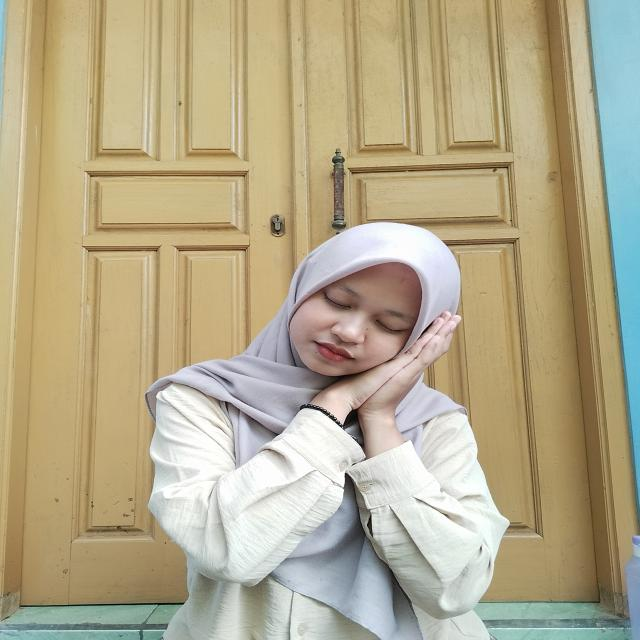tidur: (292, 311, 462, 465)
